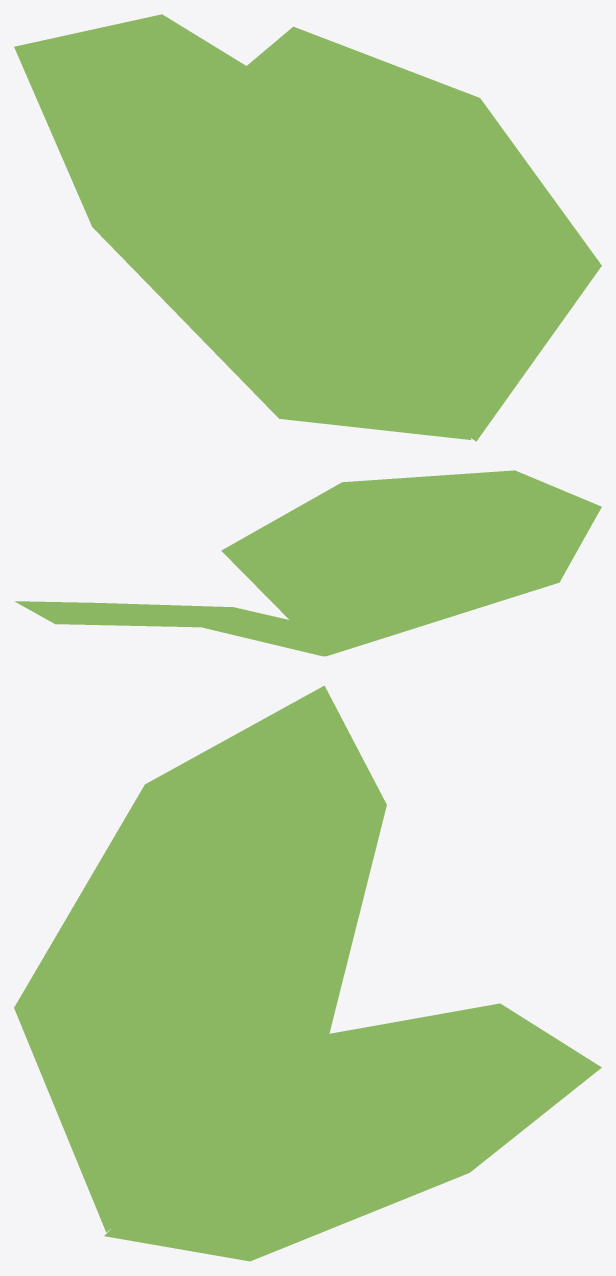
File: Plant_h_OneS_01.fbx
3 renders of one model, top to bottom at view 1: azimuth 30°, elevation 25°; view 2: azimuth 150°, elevation 25°; view 3: azimuth 270°, elevation 25°, orthographic. The views are drawn at different scales.
Visible parts, largest first — view 1: Plant_h_OneS_01; view 2: Plant_h_OneS_01; view 3: Plant_h_OneS_01.
Boxes of the visible parts, x1,y1,x2,y2 form: Plant_h_OneS_01: [14, 14, 601, 441]; Plant_h_OneS_01: [15, 470, 601, 656]; Plant_h_OneS_01: [14, 685, 601, 1261].
Size of the model in its own units: 0.2683 by 0.1804 by 0.2494.
